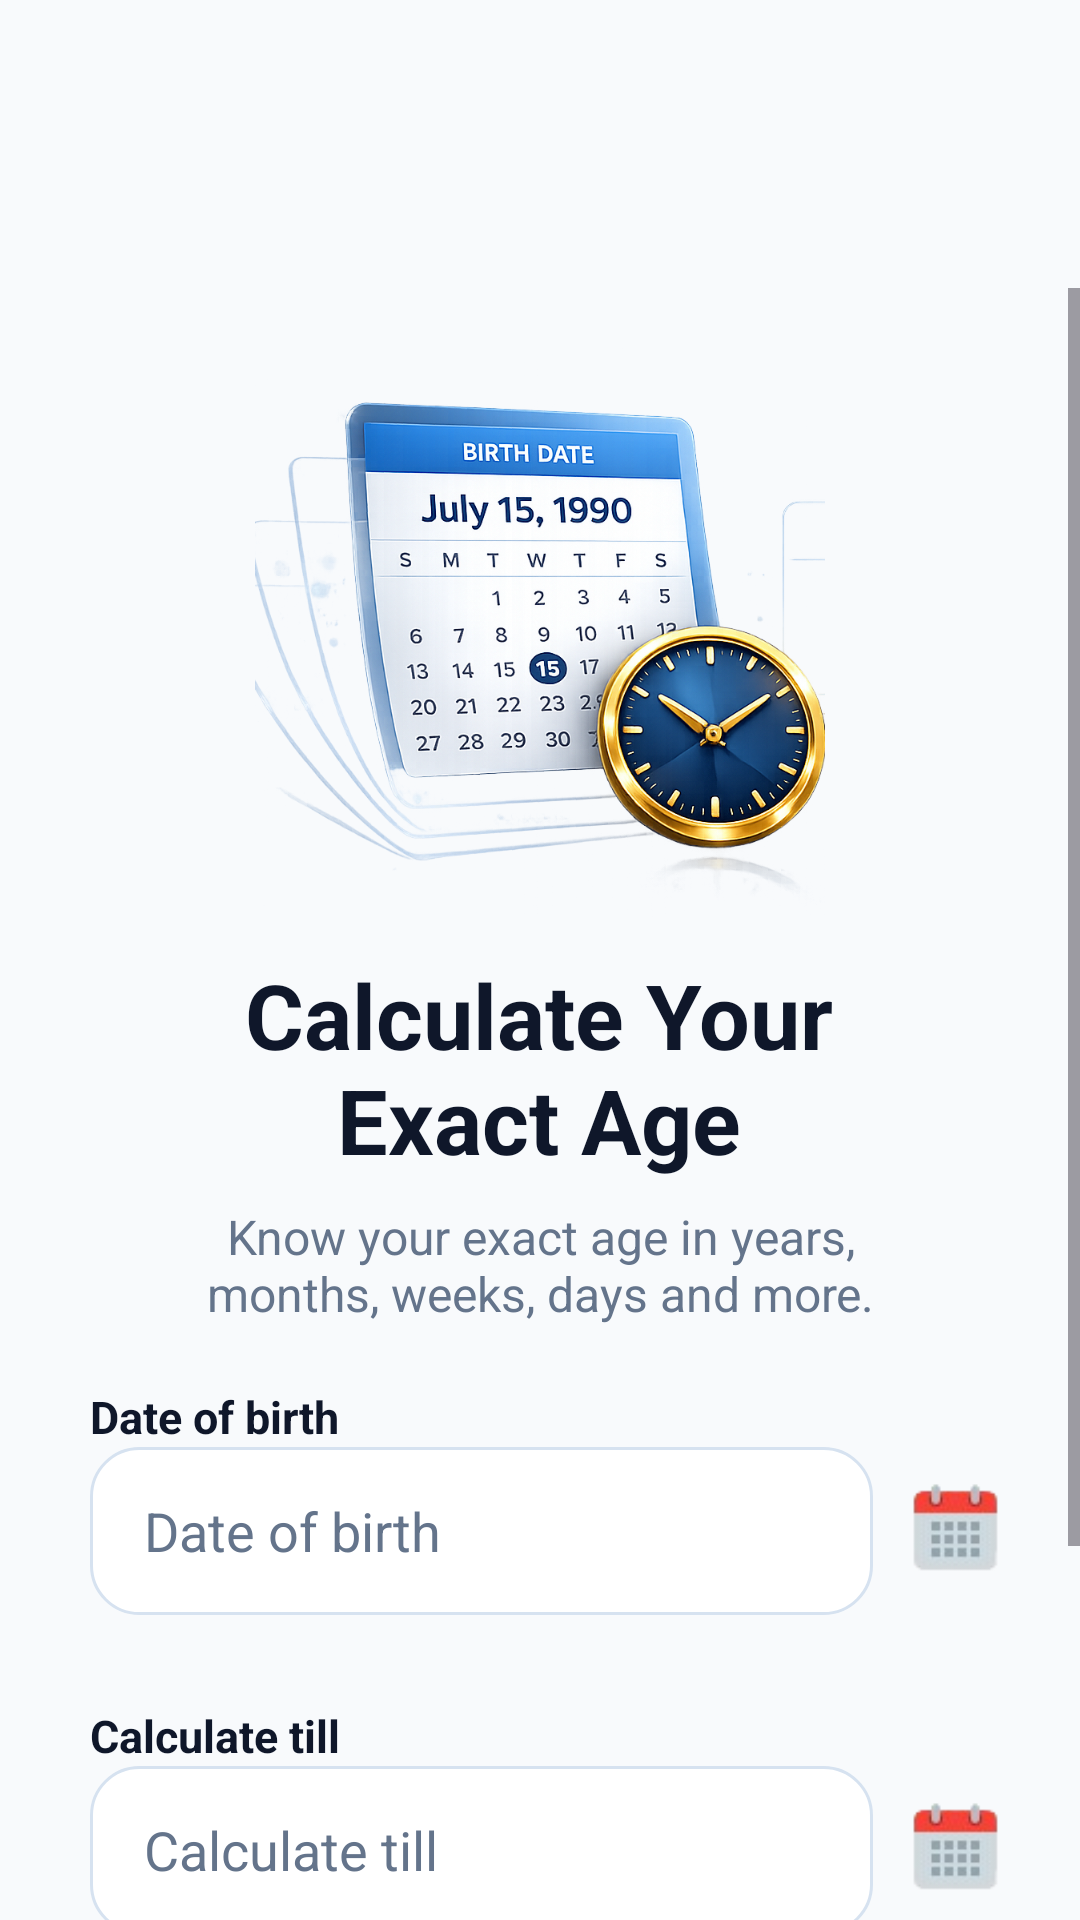

Screen size 1080px×1920px. Icon name, then its center in pixels as (x,y):
Calendar Icon1: (955,1527)
Calendar Icon2: (955,1846)
